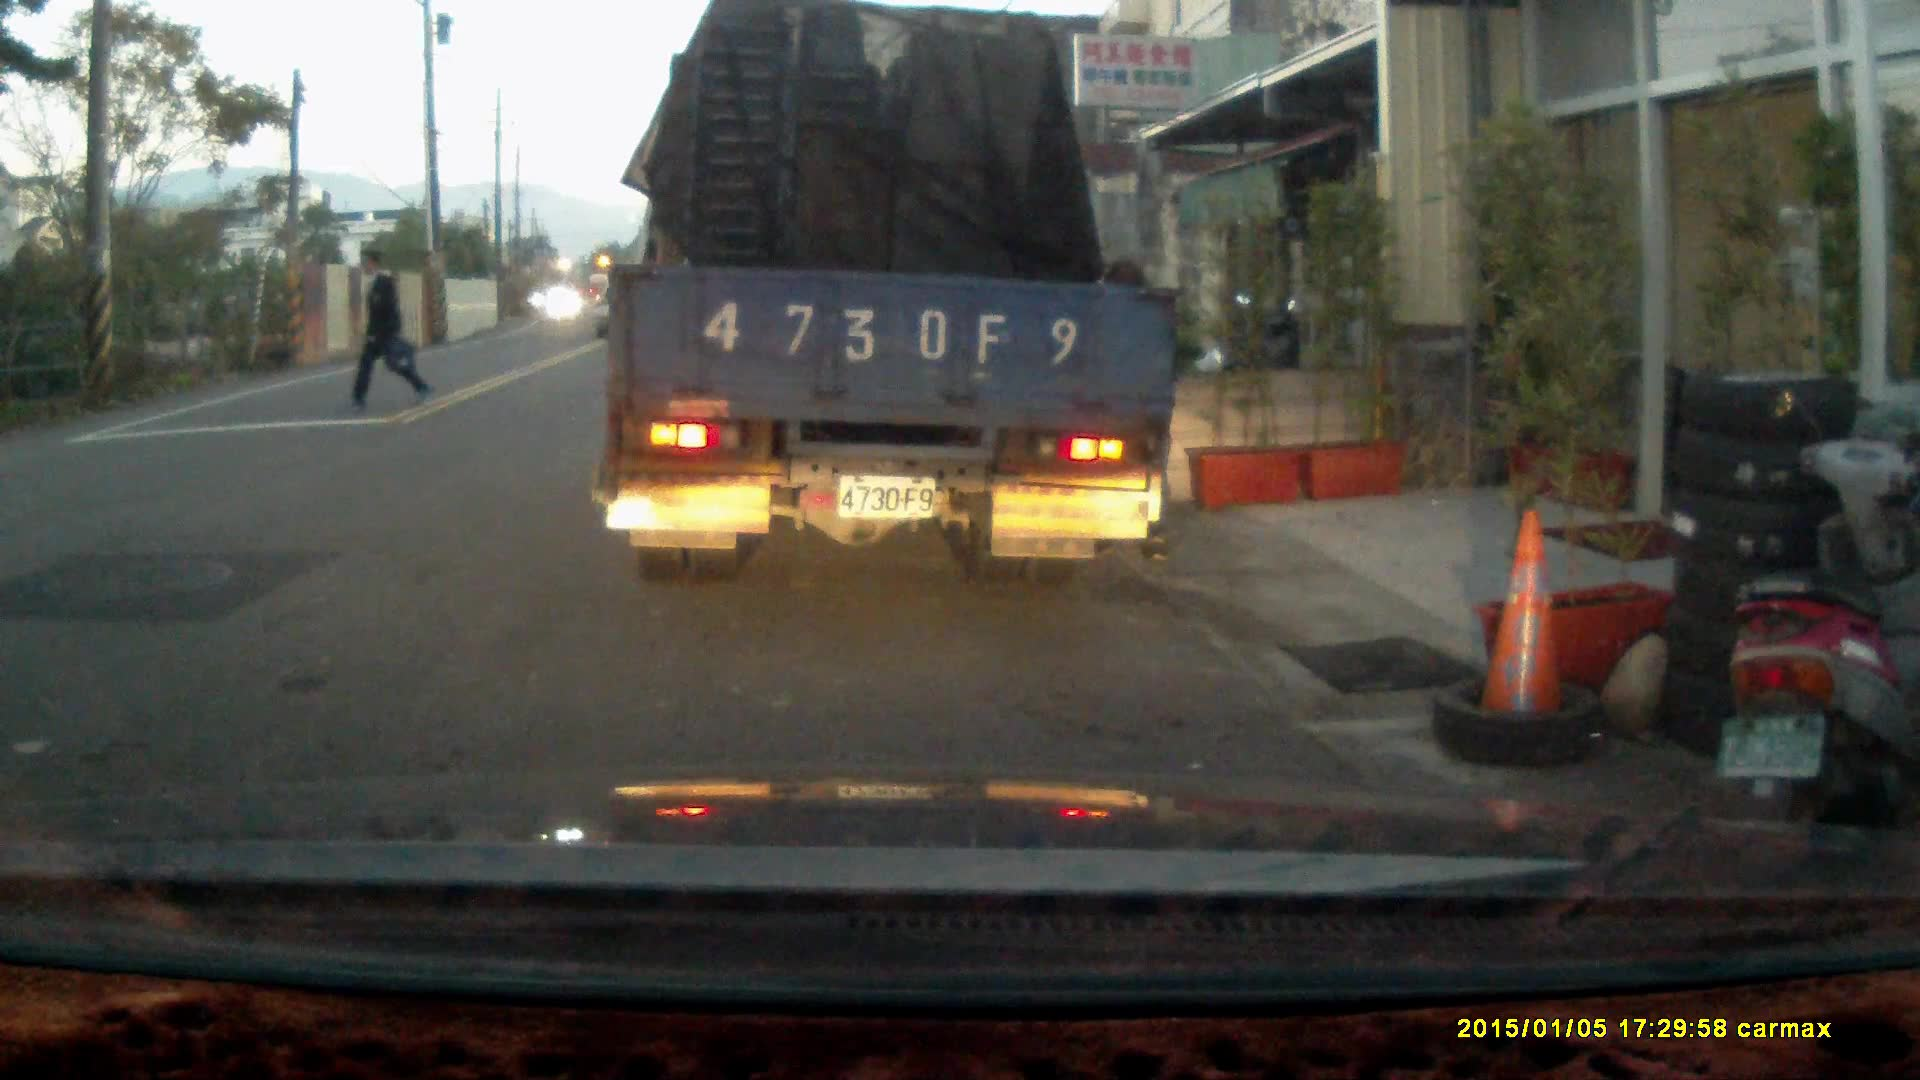pedestrian: (337, 247, 429, 416)
vehicle: (604, 23, 1188, 572)
